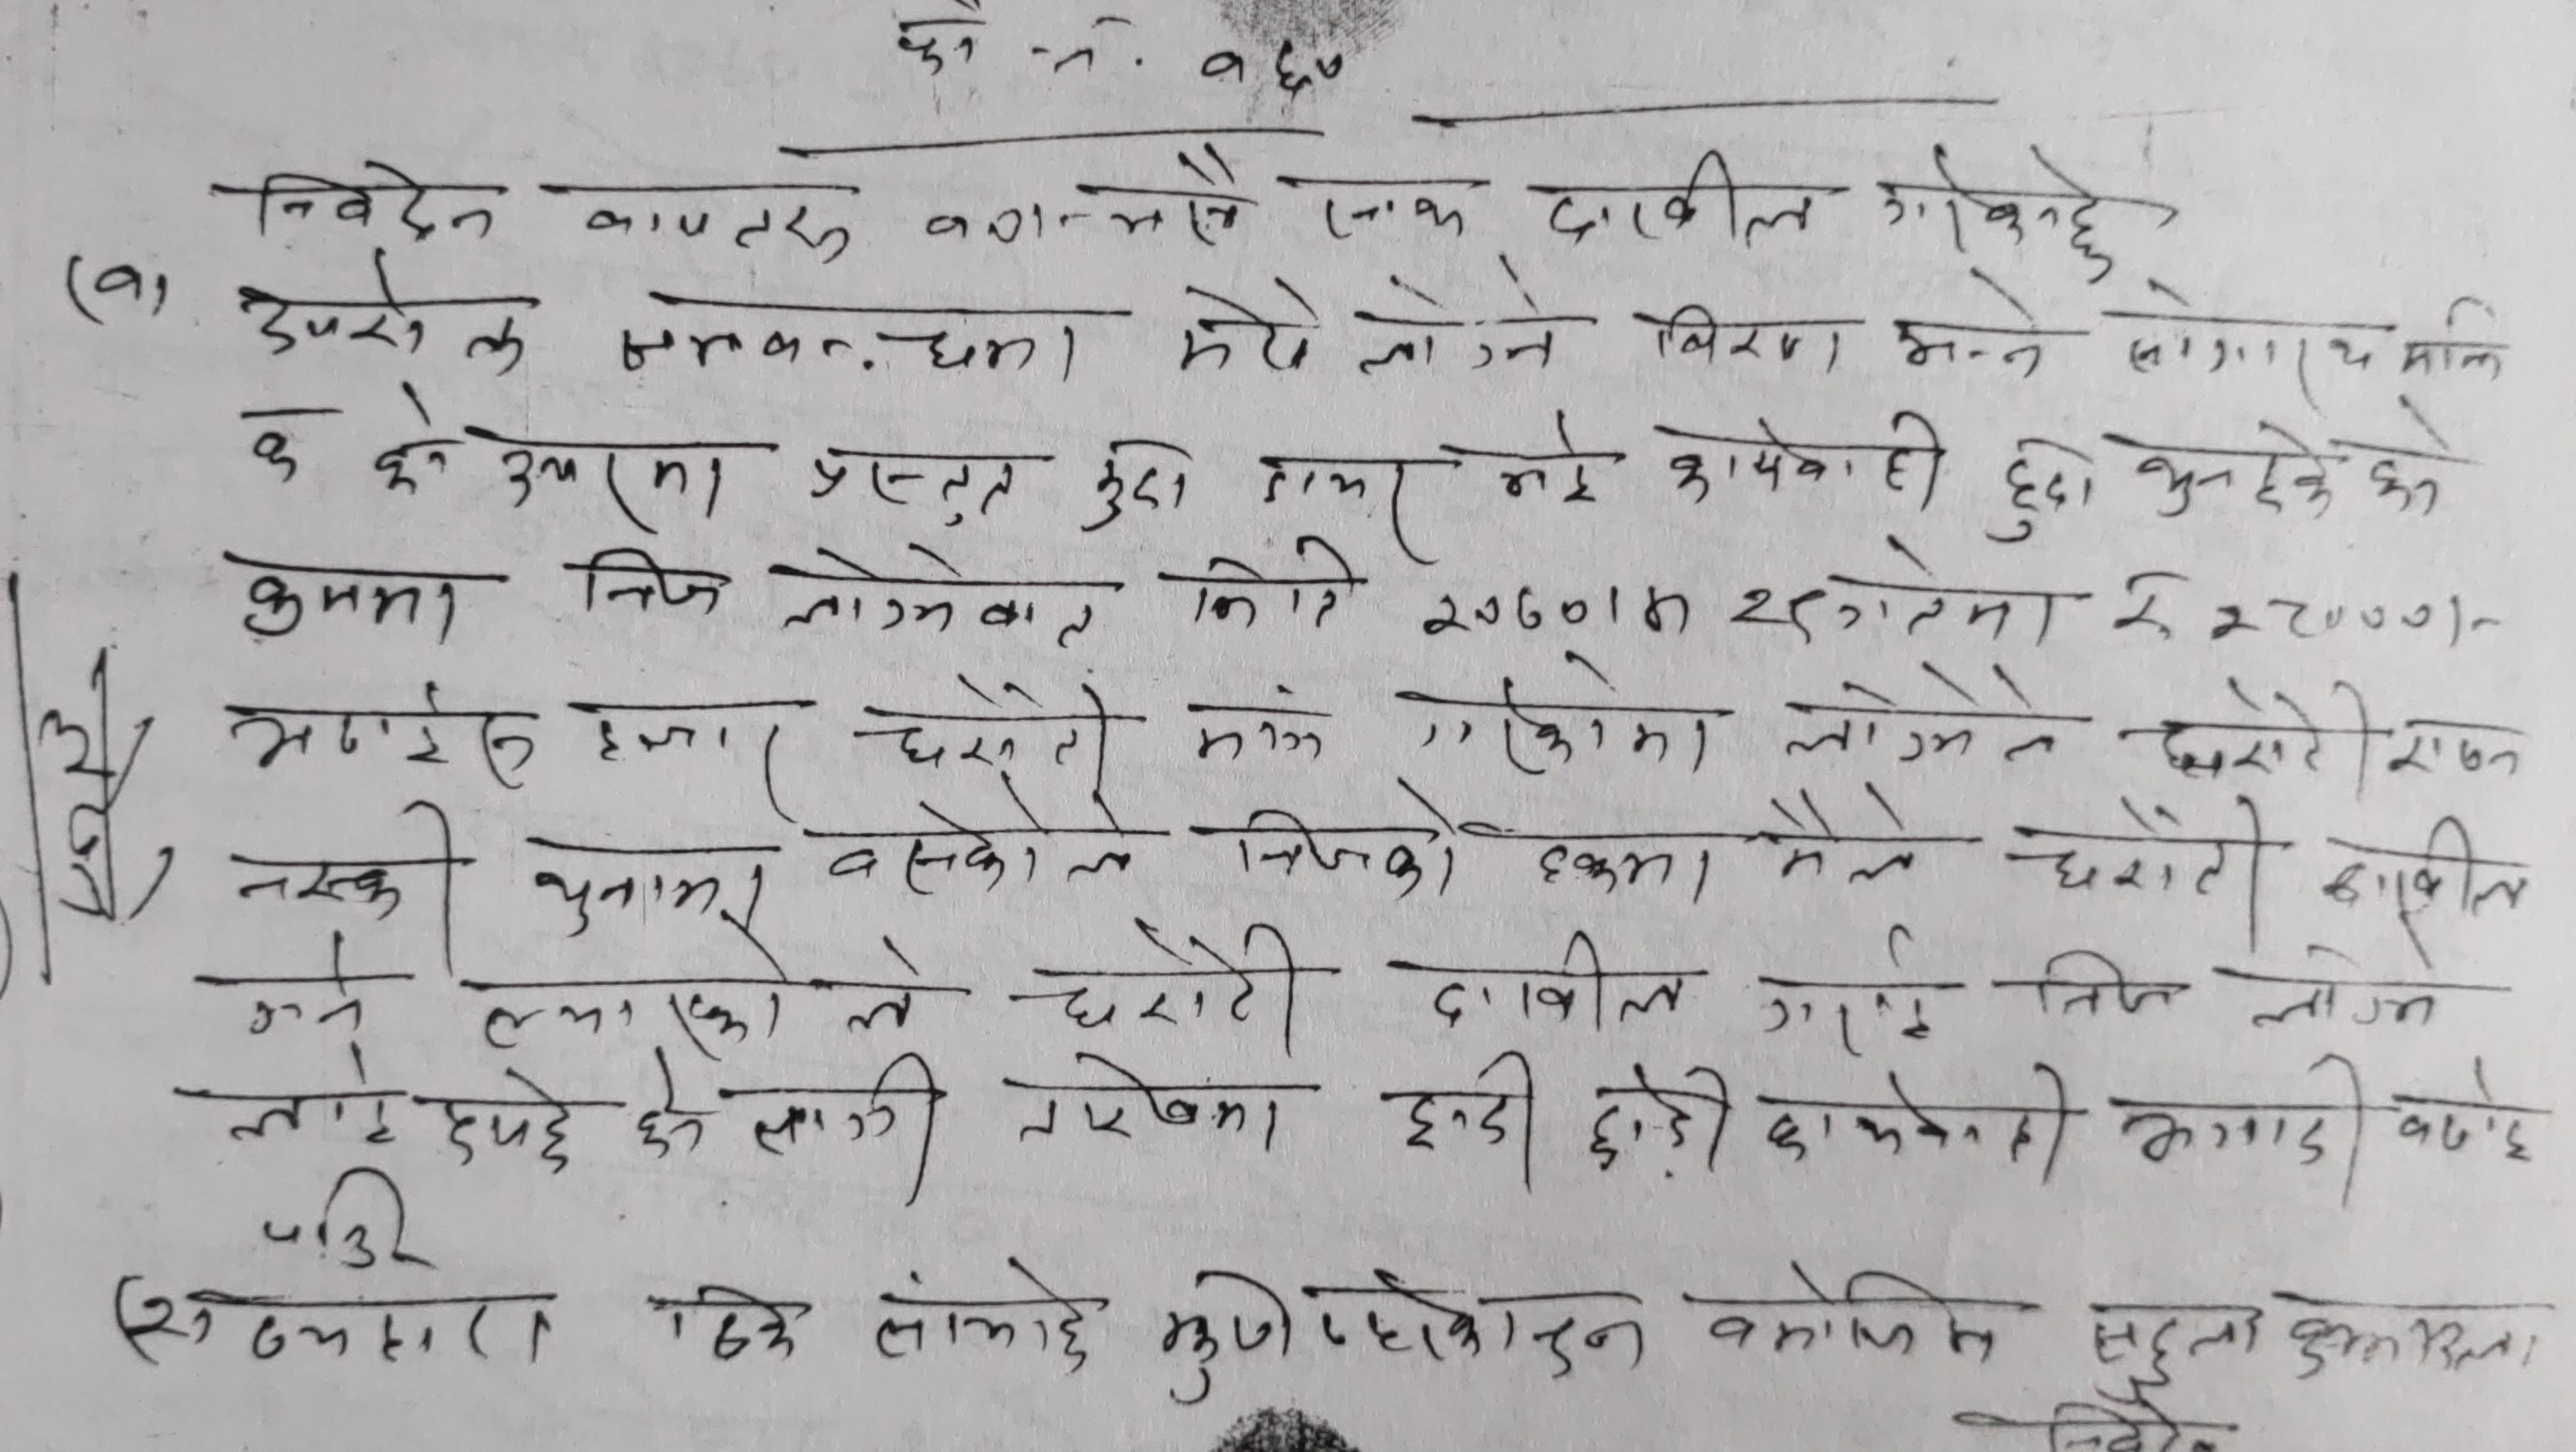text: (467, 935, 922, 1048), (88, 1273, 563, 1378), (600, 283, 1093, 382), (1295, 1264, 1660, 1388), (1394, 657, 1721, 781), (1014, 910, 1307, 1048), (1759, 1061, 2081, 1185), (913, 143, 1254, 260), (232, 244, 536, 375), (2019, 783, 2277, 930), (2111, 1048, 2365, 1195), (773, 542, 1109, 652), (1868, 140, 2135, 278), (219, 678, 536, 793), (1410, 565, 1828, 652), (814, 788, 1141, 896), (1691, 1261, 2012, 1369), (1640, 404, 1951, 514), (708, 1043, 939, 1186), (1003, 1048, 1286, 1163), (2111, 278, 2380, 398), (212, 797, 464, 919), (1771, 673, 2086, 770), (860, 1255, 1109, 1378), (1399, 933, 1697, 1034), (1536, 145, 1828, 248), (517, 829, 768, 944), (207, 158, 513, 251), (554, 170, 867, 260), (2304, 811, 2532, 933), (2141, 671, 2373, 788), (849, 675, 1116, 776), (1228, 786, 1461, 900), (1836, 533, 2058, 652), (1343, 266, 1564, 382), (2286, 1287, 2553, 1383), (225, 552, 462, 659), (1748, 923, 1937, 1055), (2116, 414, 2334, 526), (481, 434, 734, 529), (566, 701, 816, 797), (2212, 947, 2463, 1038), (803, 444, 1037, 537), (1585, 1055, 1743, 1186), (1180, 537, 1369, 645), (2381, 1055, 2548, 1176), (1886, 264, 2059, 379), (1398, 1048, 1541, 1186), (416, 1064, 584, 1178), (1157, 1268, 1295, 1401), (1523, 818, 1721, 910), (1284, 163, 1490, 251), (1169, 274, 1334, 382), (223, 1057, 405, 1155), (1240, 450, 1424, 544), (1762, 781, 1920, 887), (1628, 297, 1852, 372), (651, 1273, 809, 1378), (267, 1170, 432, 1268), (2089, 1300, 2265, 1388), (556, 542, 731, 627), (241, 935, 370, 1041), (1074, 434, 1198, 544), (2017, 944, 2174, 1029), (1990, 427, 2102, 545), (2208, 590, 2447, 645), (1185, 30, 1353, 106), (1175, 691, 1330, 770), (361, 379, 460, 498), (617, 1043, 711, 1163), (2385, 712, 2530, 788), (1493, 409, 1599, 512), (2394, 294, 2511, 382), (2362, 404, 2456, 514), (2098, 558, 2189, 655), (1035, 7, 1134, 89), (888, 5, 991, 78), (234, 405, 324, 487), (88, 243, 143, 322)
